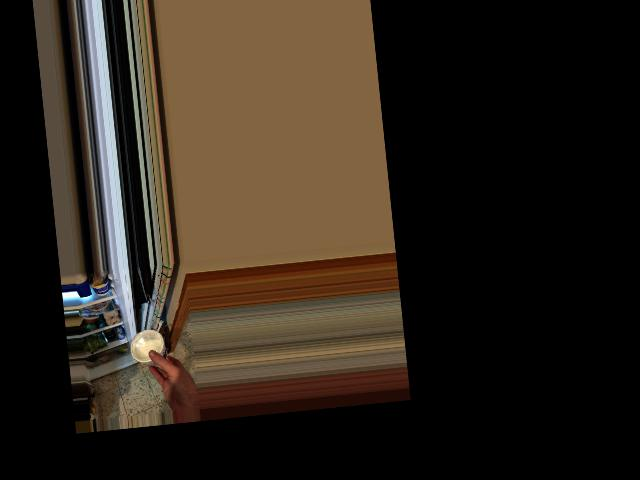cotage: (131, 324, 171, 364)
